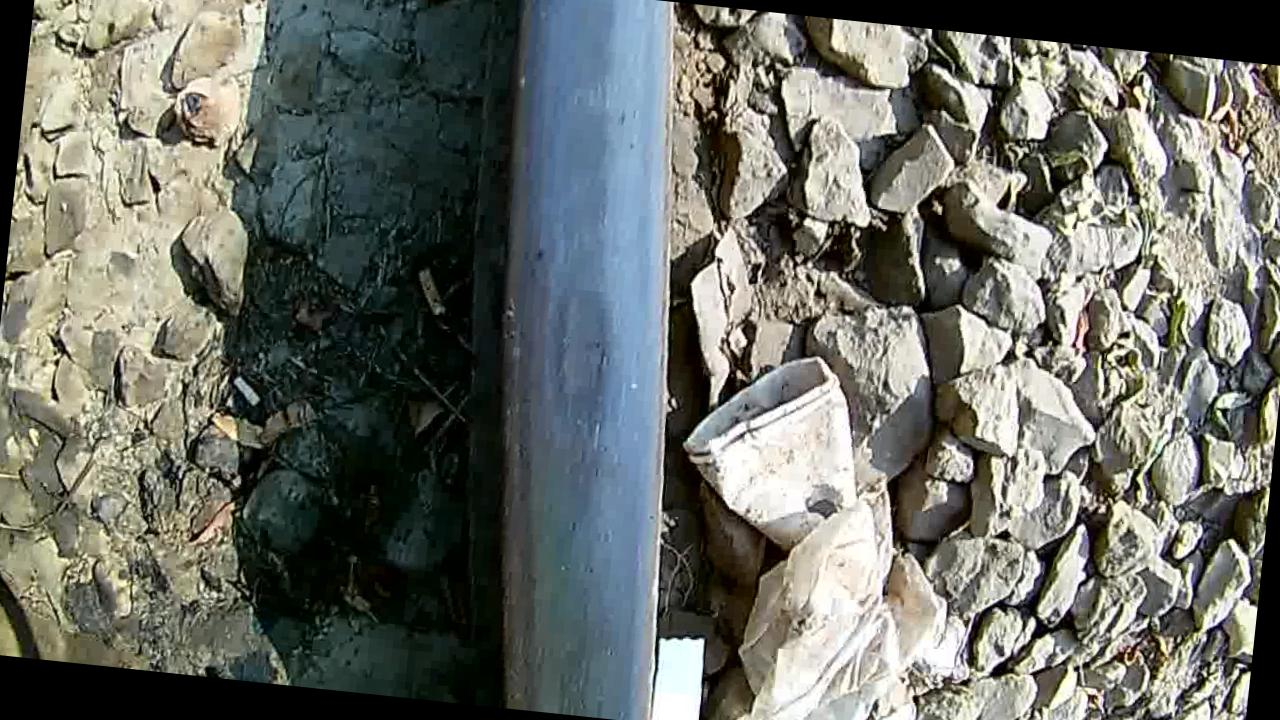bolt_missing: (434, 0, 706, 720)
